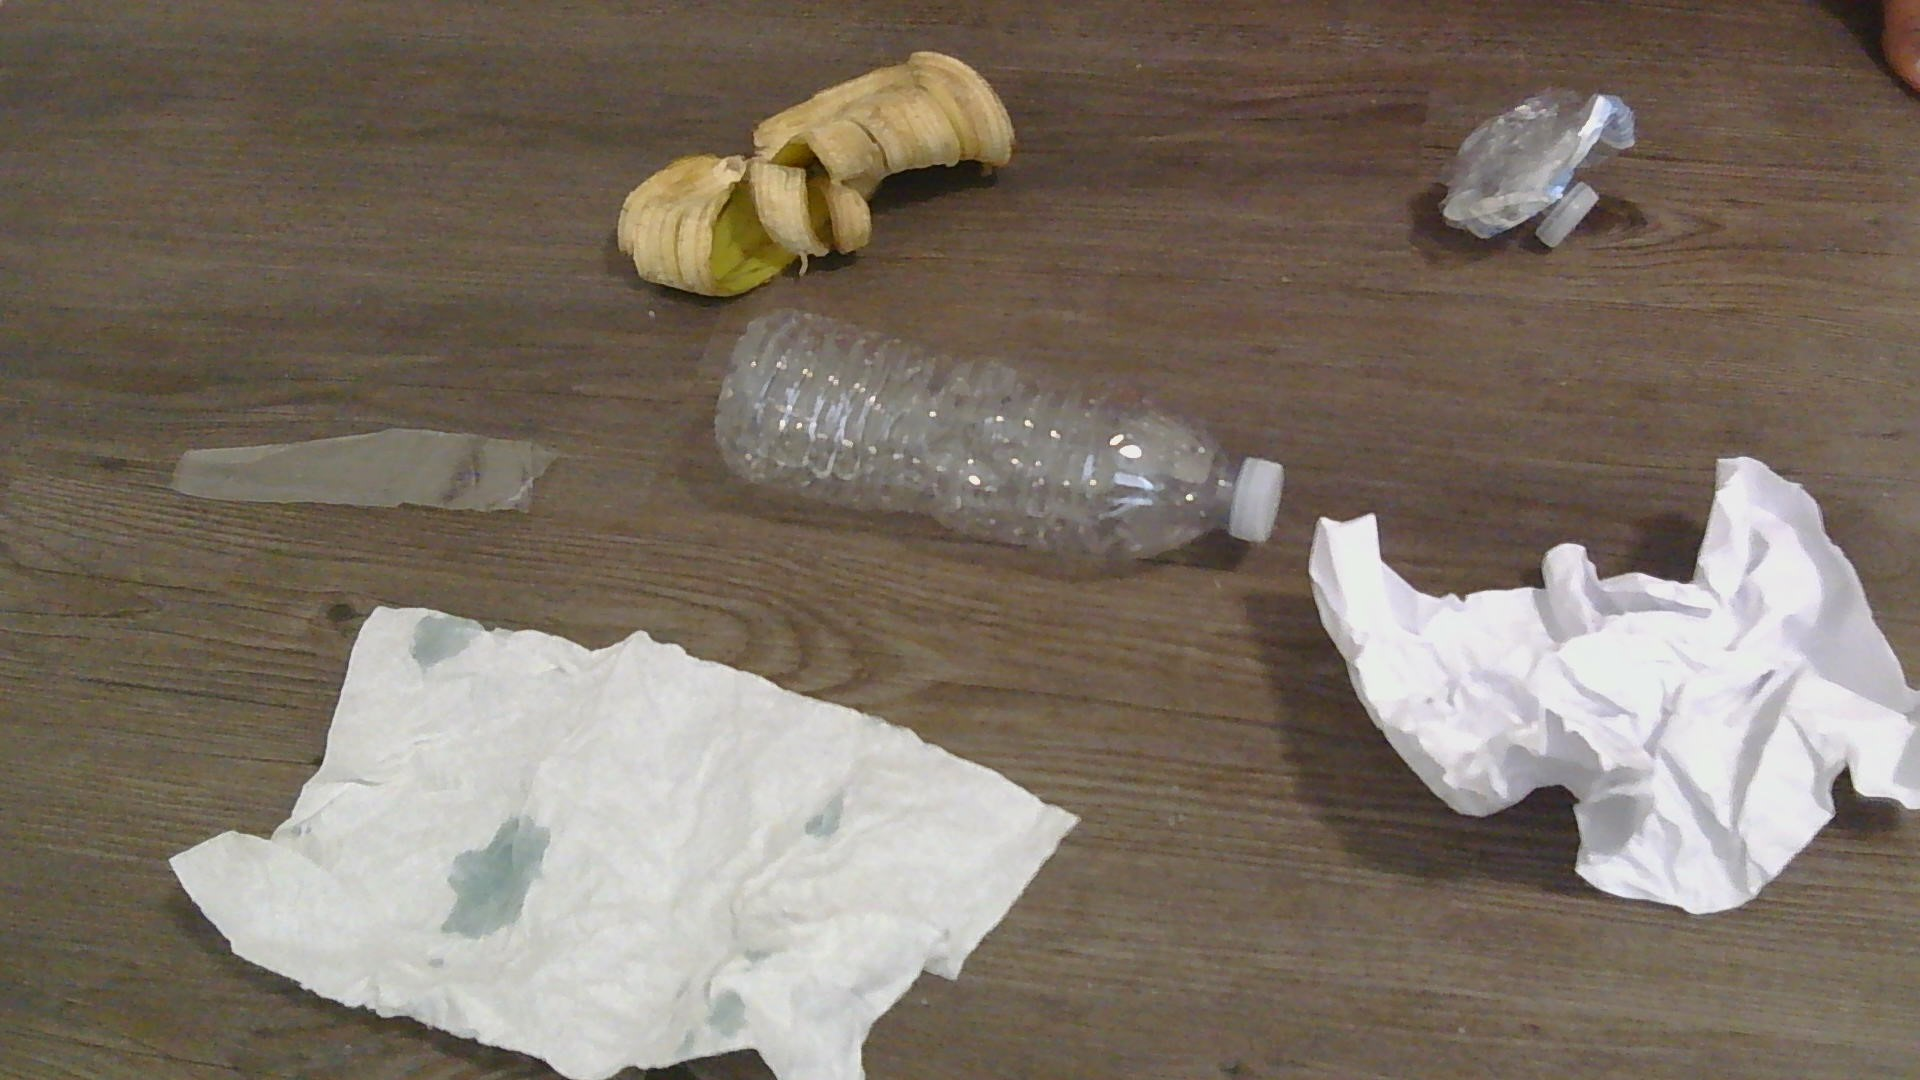banana peel: (618, 42, 1023, 303)
bottle: (713, 306, 1275, 567)
crushed bottle: (1433, 90, 1635, 243)
napkin: (170, 608, 1079, 1075)
paper ball: (1302, 450, 1917, 915)
plastic piece: (162, 426, 555, 520)
